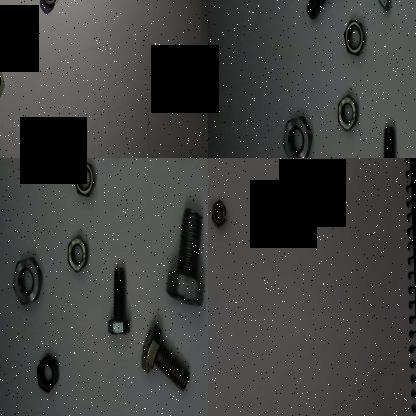Bolts: (163, 203, 208, 317), (138, 322, 198, 402), (106, 261, 136, 351), (375, 116, 405, 158), (303, 0, 344, 20), (375, 0, 411, 18)
NUTS: (5, 246, 49, 317), (34, 349, 64, 405), (280, 111, 314, 158), (64, 231, 92, 284), (70, 158, 100, 200), (340, 15, 366, 59), (334, 92, 358, 138), (209, 197, 232, 226), (41, 0, 59, 12)
